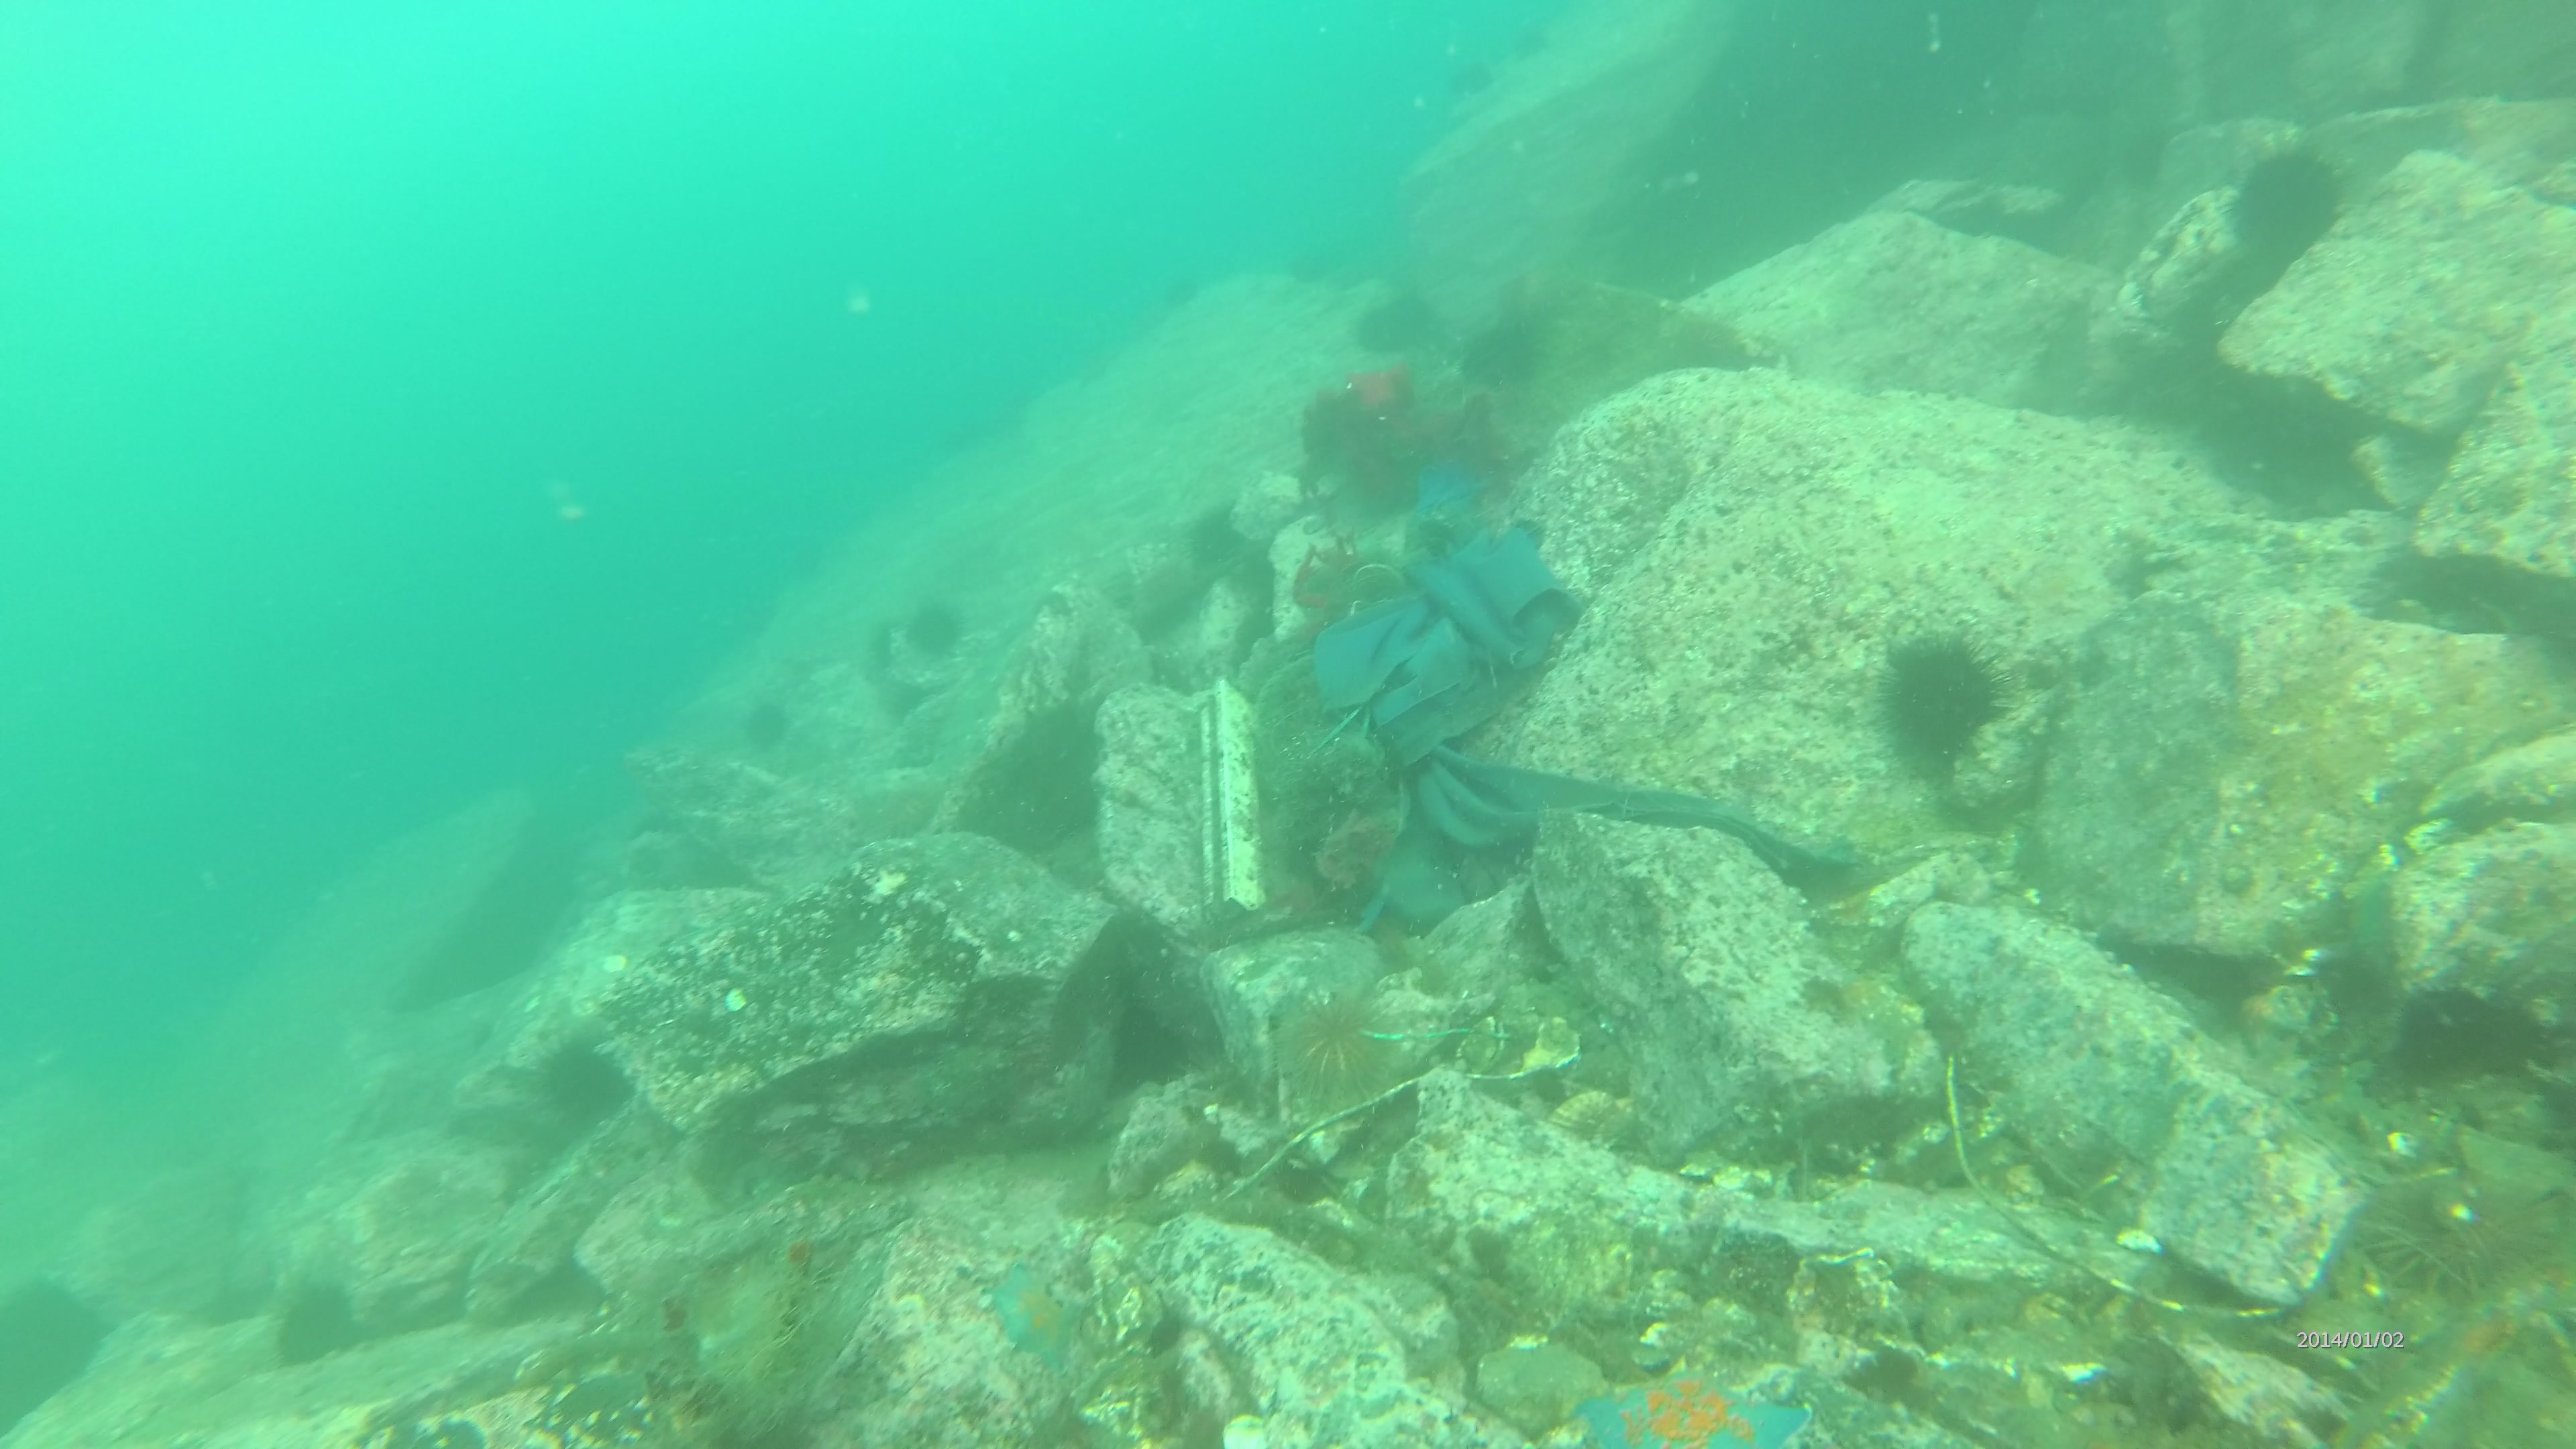echinus: (2376, 1166, 2548, 1295), (1874, 637, 2015, 766), (2226, 145, 2350, 257), (2392, 975, 2512, 1083), (1286, 994, 1394, 1090), (1472, 311, 1541, 395), (1357, 290, 1433, 356), (908, 602, 970, 658), (1192, 508, 1254, 564)
starfish: (1580, 1355, 1810, 1449), (977, 1265, 1093, 1355)
